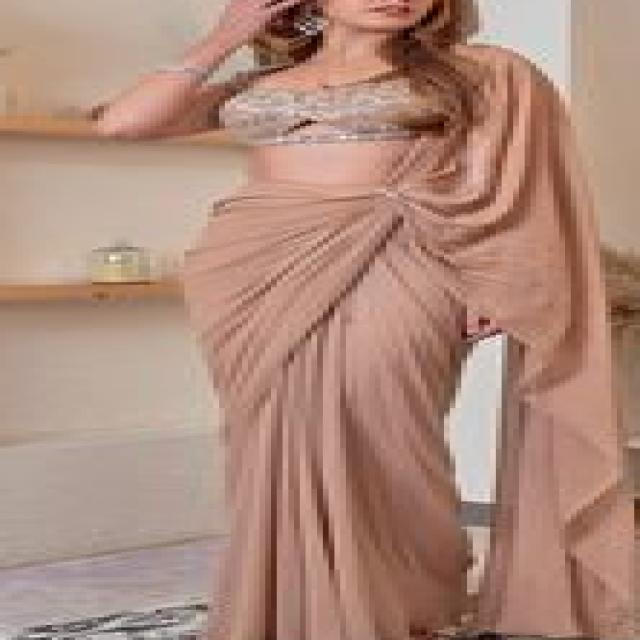sarees: (167, 40, 640, 640)
